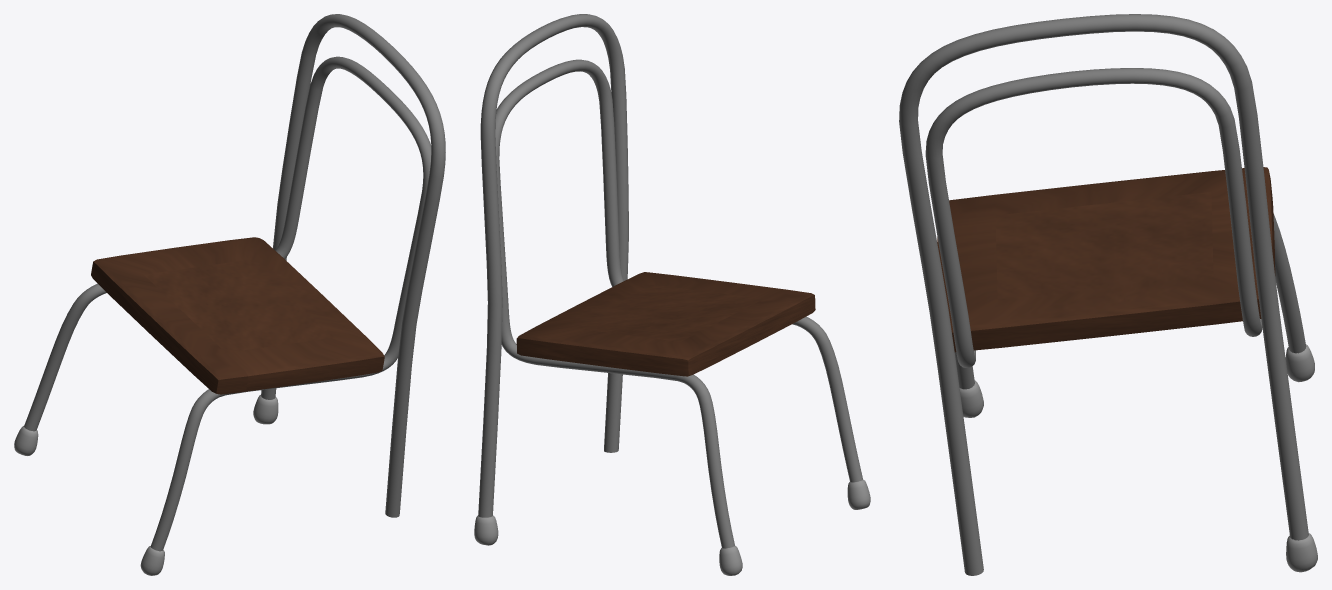
Rendered from cadeira quebrada.fbx.
The picture shows the model from 3 angles, left to right: view 1: azimuth 30°, elevation 25°; view 2: azimuth 150°, elevation 25°; view 3: azimuth 270°, elevation 25°; orthographic projection. The views are drawn at different scales.
Visible parts, largest first — view 1: cadeira quebrada_LOD0; view 2: cadeira quebrada_LOD0; view 3: cadeira quebrada_LOD0.
Part boxes in pixels (x1,y1,x2,y2): cadeira quebrada_LOD0: (14, 14, 445, 575); cadeira quebrada_LOD0: (474, 14, 870, 575); cadeira quebrada_LOD0: (899, 14, 1317, 575).
Size of what is drawn, in the model's own units: 68.03 by 98.78 by 65.08.
3 materials, 1 textured.
